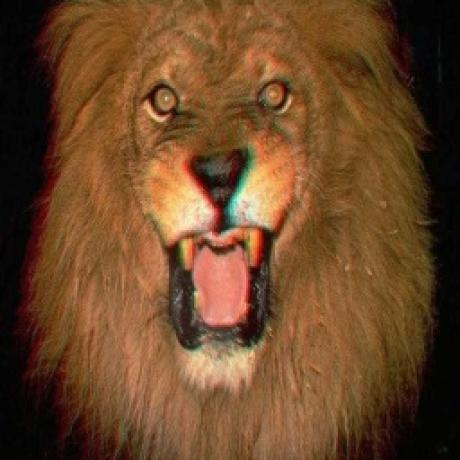Lion: (26, 0, 437, 460)
